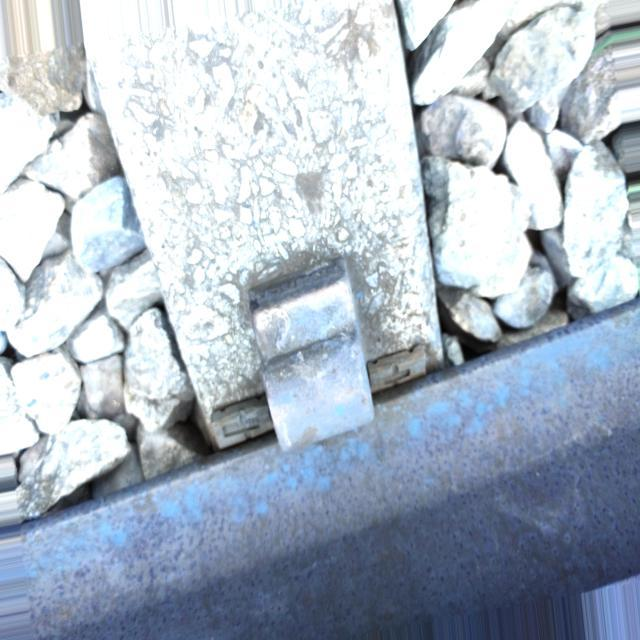Missing Fastener: (160, 147, 444, 450)
